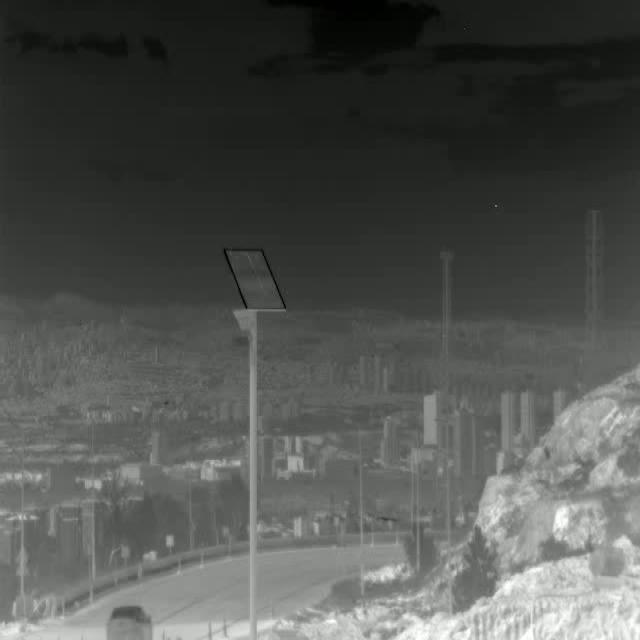Car: (105, 604, 152, 640)
